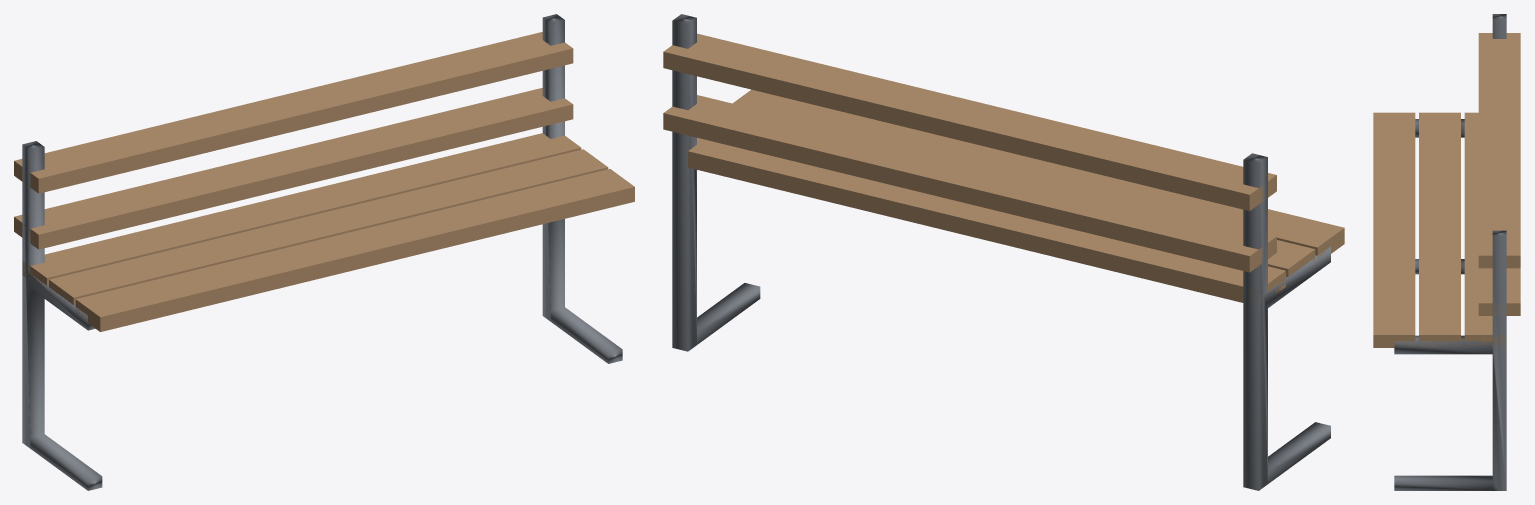
Rendered from bench_park.glb.
The picture shows the model from 3 angles, left to right: view 1: azimuth 30°, elevation 25°; view 2: azimuth 150°, elevation 25°; view 3: azimuth 270°, elevation 25°; orthographic projection. The views are drawn at different scales.
Visible parts, largest first — view 1: slat_1, back_1, back_2, slat_2, slat_3, merged_frame_metal (×2); view 2: back_1, back_2, merged_frame_metal (×2), slat_3, slat_1, slat_2; view 3: slat_1, slat_2, back_1, merged_frame_metal (×2), slat_3, back_2.
Part boxes in pixels (x1,y1,x2,y2): slat_1: (75, 169, 634, 331); back_1: (14, 32, 573, 193); back_2: (14, 88, 573, 249); slat_2: (49, 149, 608, 306); slat_3: (22, 133, 581, 287); merged_frame_metal (×2): (22, 14, 622, 490); back_1: (663, 33, 1276, 210); back_2: (663, 95, 1276, 272); merged_frame_metal (×2): (672, 14, 1330, 490); slat_3: (688, 137, 1285, 305); slat_1: (732, 89, 1344, 261); slat_2: (1268, 240, 1315, 276); slat_1: (1373, 112, 1415, 347); slat_2: (1419, 112, 1460, 347); back_1: (1478, 33, 1520, 268); merged_frame_metal (×2): (1394, 14, 1506, 490); slat_3: (1464, 112, 1506, 347); back_2: (1478, 268, 1520, 315).
Bounding box in the file's own units: 1.5 × 0.8 × 0.42.
